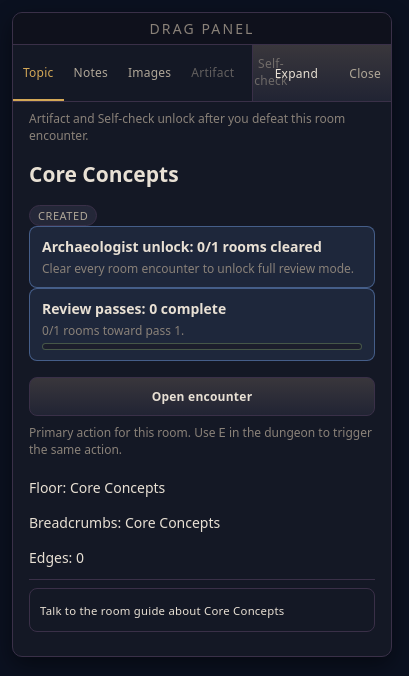
Scenario: RoomPanel › renders imported note text even when validation count is zero
Click the tab "Notes" at (91, 73), box [64,45,118,101]
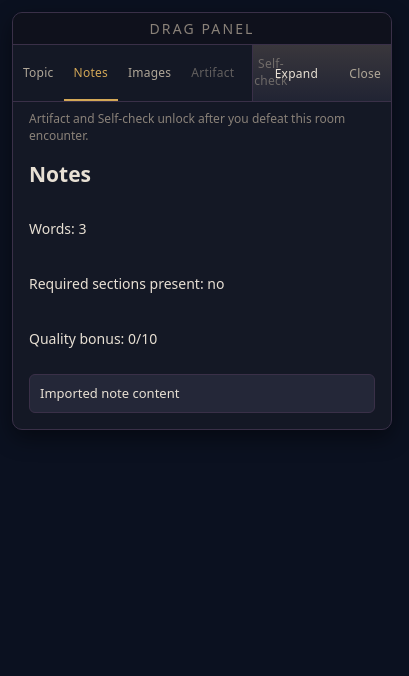
Expected: the text "Imported note content" is shown, [40,384,179,402]
